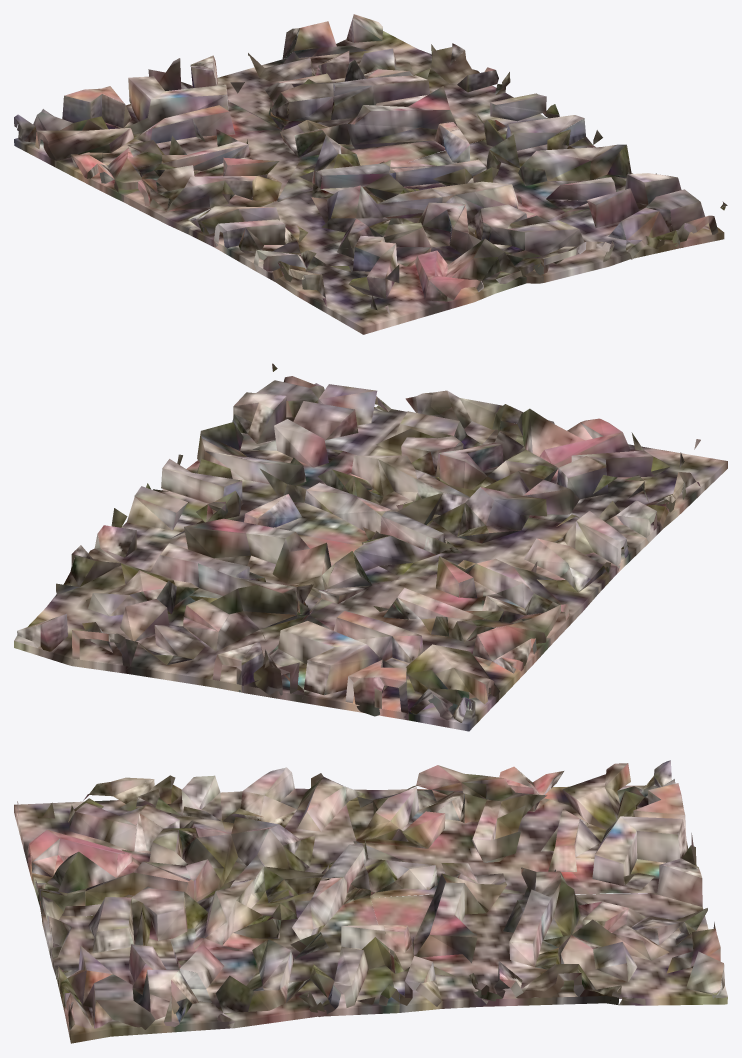
3 views of the same model, one above another, from view 1: azimuth 30°, elevation 25°; view 2: azimuth 150°, elevation 25°; view 3: azimuth 270°, elevation 25° (orthographic). The views are drawn at different scales.
Parts seen in each view (by area): view 1: Mesh_0; view 2: Mesh_0; view 3: Mesh_0.
Part boxes in pixels (bbox=[...]): Mesh_0: bbox=[14, 14, 727, 334]; Mesh_0: bbox=[14, 363, 727, 731]; Mesh_0: bbox=[14, 760, 727, 1043].
Size of the model in its own units: 269 by 32.37 by 330.
2 materials, 2 textured.
